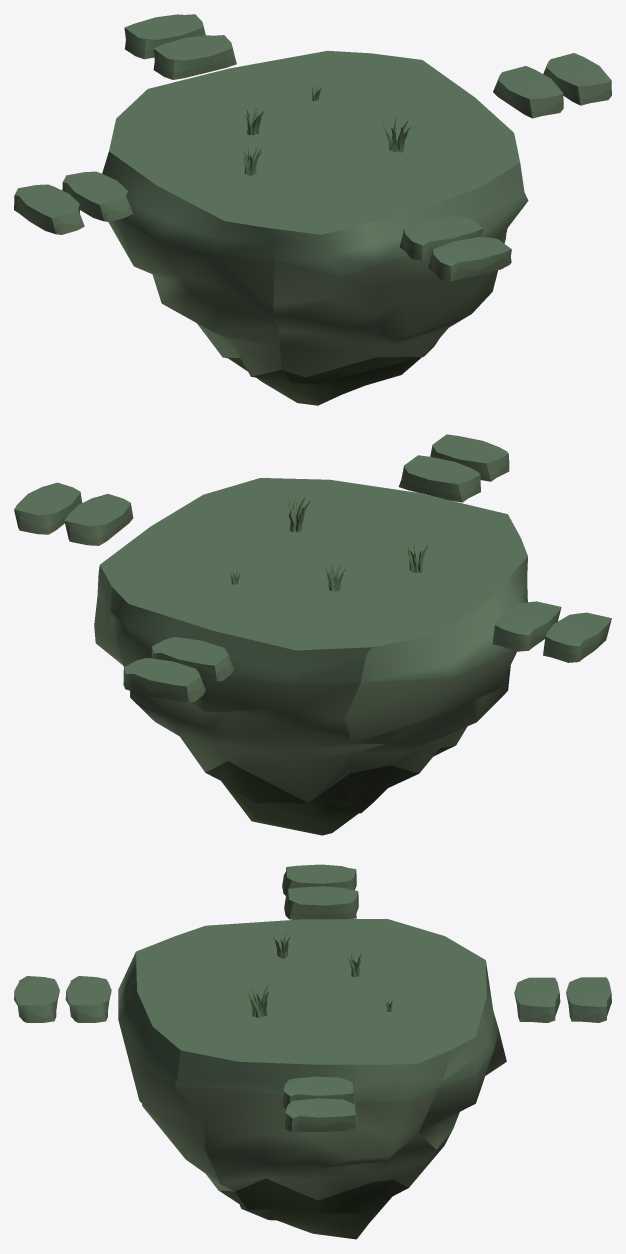
Rendered from Start End tile.fbx.
3 renders of one model, top to bottom at view 1: azimuth 30°, elevation 25°; view 2: azimuth 150°, elevation 25°; view 3: azimuth 270°, elevation 25°, orthographic. The views are drawn at different scales.
Visible parts, largest first — view 1: polySurface4, pasted__pasted__pCube1, pasted__pasted__pasted__pasted__pCube1, pasted__pasted__pasted__pasted__pCube3, pasted__pasted__pCube2; view 2: polySurface4, pasted__pasted__pasted__pasted__pCube3, pasted__pasted__pCube1, pasted__pasted__pCube2, pasted__pasted__pasted__pasted__pCube1; view 3: polySurface4, pasted__pasted__pasted__pasted__pCube1, pasted__pasted__pasted__pasted__pCube3, pasted__pasted__pCube1, pasted__pasted__pCube2.
Boxes of the visible parts, bbox=[...] form: polySurface4: bbox=[102, 50, 528, 405]; pasted__pasted__pCube1: bbox=[124, 14, 236, 79]; pasted__pasted__pasted__pasted__pCube1: bbox=[14, 171, 132, 234]; pasted__pasted__pasted__pasted__pCube3: bbox=[493, 53, 611, 118]; pasted__pasted__pCube2: bbox=[400, 216, 511, 281]; polySurface4: bbox=[94, 478, 527, 835]; pasted__pasted__pasted__pasted__pCube3: bbox=[14, 482, 133, 545]; pasted__pasted__pCube1: bbox=[123, 637, 233, 702]; pasted__pasted__pCube2: bbox=[398, 434, 509, 502]; pasted__pasted__pasted__pasted__pCube1: bbox=[492, 601, 611, 662]; polySurface4: bbox=[118, 919, 506, 1239]; pasted__pasted__pasted__pasted__pCube1: bbox=[282, 864, 358, 919]; pasted__pasted__pasted__pasted__pCube3: bbox=[283, 1076, 359, 1131]; pasted__pasted__pCube1: bbox=[514, 977, 611, 1022]; pasted__pasted__pCube2: bbox=[14, 976, 111, 1022].
Bounding box in the file's own units: 8.93 × 4.36 × 8.89.
